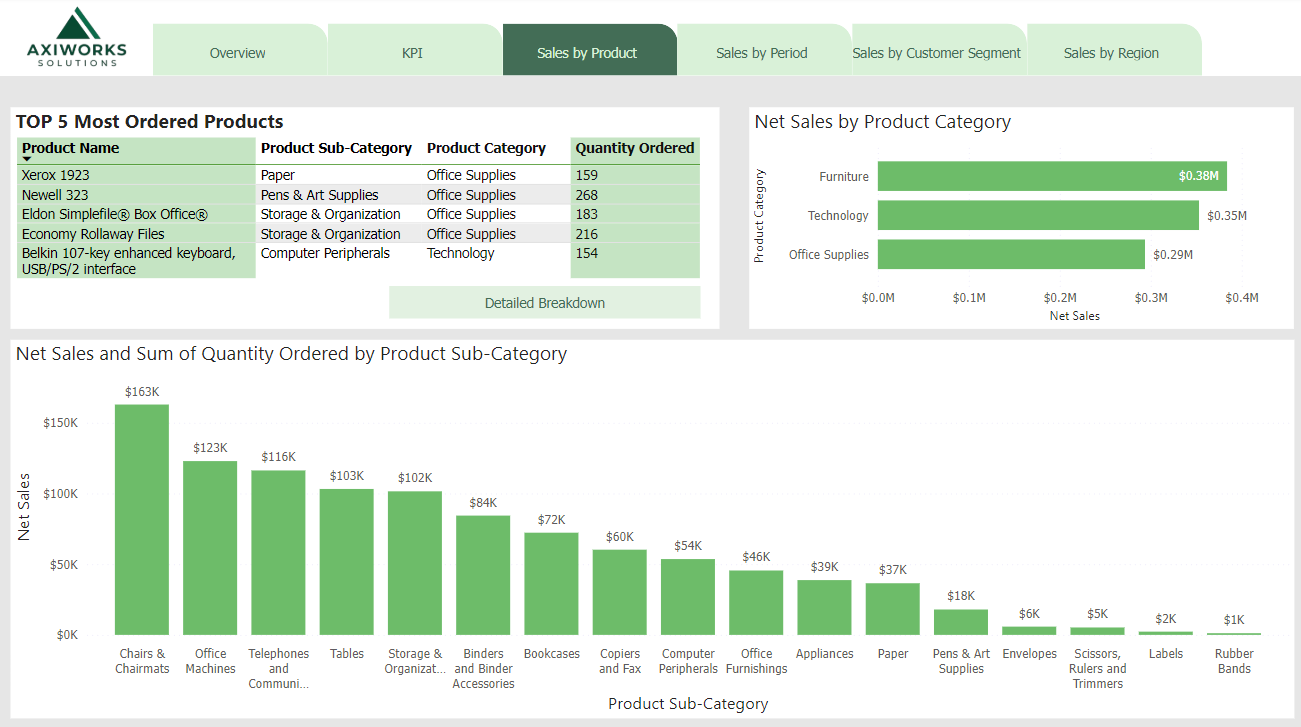

Layout of this report page (visuals, bound fields, positions):
{"tool":"powerbi","page":{"name":"Sales by Product","canvas":[1280,720],"ordinal":3},"visuals":[{"type":"shape","box":[0,78.5,1280.3,641.4],"z":0},{"type":"columnChart","fields":{"Category":["Orders.Product Category Hierarchy.Product Sub-Category"],"Y":["Orders.Net Sales"]},"box":[12.2,336.3,1255.8,370.5],"z":1000},{"type":"tableEx","title":"TOP 5 Most Ordered Products","fields":{"Values":["Orders.Product Name","Orders.Product Sub-Category","Orders.Product Category","Sum(Orders.Quantity ordered new)"]},"box":[12.2,108.8,693.3,216.4],"z":2000},{"type":"pageNavigator","box":[151.9,27.5,1028.9,51.1],"z":3000},{"type":"image","box":[0,0,151.6,78.3],"z":4000},{"type":"clusteredBarChart","fields":{"Y":["Orders.Net Sales"],"Category":["Orders.Product Category Hierarchy.Product Category"]},"box":[734.9,108.8,533.2,216.4],"z":5000},{"type":"actionButton","box":[382.7,283.7,304.5,31.8],"z":5001}]}

Visuals, with their boxes in screenshot pixels (x1, y1, x2, y2), scaled from the page's 1280x720 canvas onto the 1301x727 screenshot:
shape: 0, 79, 1300, 726
columnChart - Orders.Product Category Hierarchy.Product Sub-Category x Orders.Net Sales: 12, 340, 1289, 714
"TOP 5 Most Ordered Products" tableEx: 12, 110, 717, 328
pageNavigator: 154, 28, 1200, 79
image: 0, 0, 154, 79
clusteredBarChart - Orders.Net Sales x Orders.Product Category Hierarchy.Product Category: 747, 110, 1289, 328
actionButton: 389, 286, 698, 319
